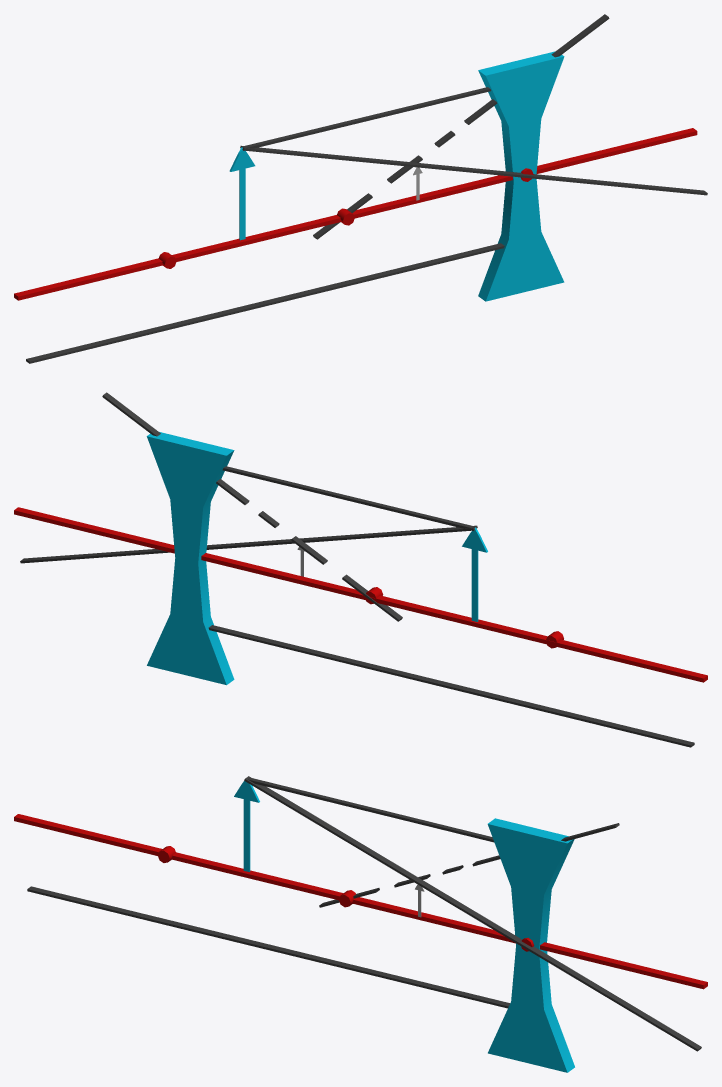
File: last8.fbx
3 views of the same model, one above another, from view 1: azimuth 30°, elevation 25°; view 2: azimuth 150°, elevation 25°; view 3: azimuth 330°, elevation 25° (orthographic).
Visible parts, largest first — view 1: last8; view 2: last8; view 3: last8.
Part boxes in pixels (x1,y1,x2,y2): last8: [14, 14, 707, 363]; last8: [14, 392, 707, 747]; last8: [14, 776, 707, 1072].
Size of the model in its own units: 33.96 by 12.07 by 1.3.
